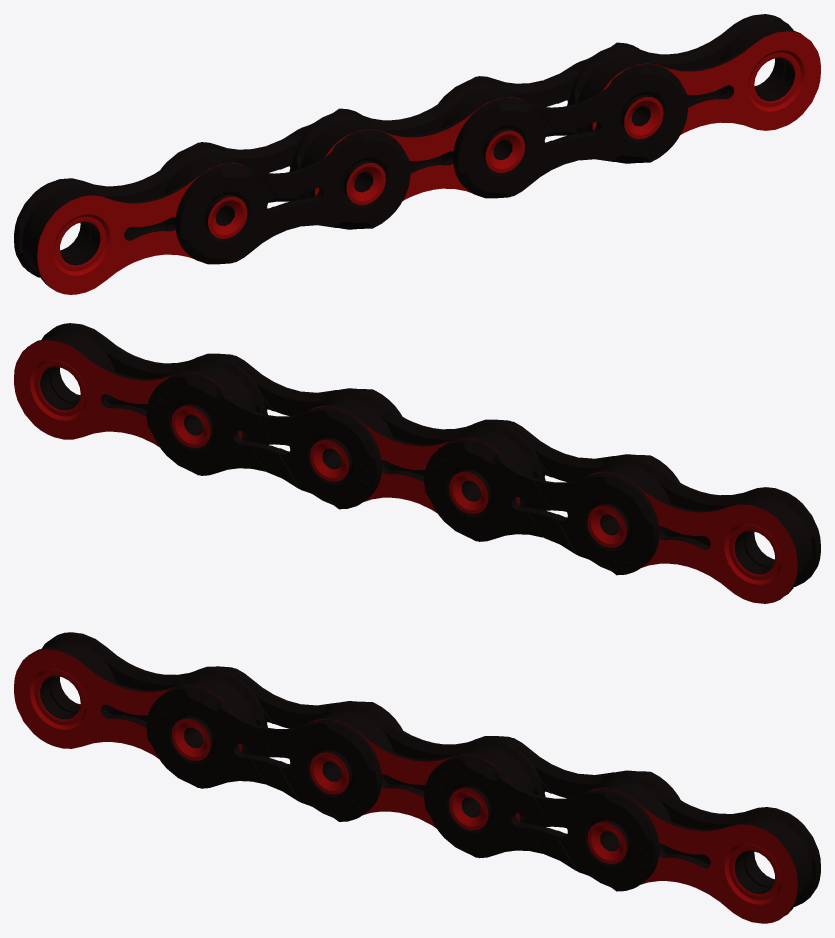
The model's file is DLC11-Red.gltf.
3 renders of one model, top to bottom at view 1: azimuth 30°, elevation 25°; view 2: azimuth 150°, elevation 25°; view 3: azimuth 330°, elevation 25°, orthographic.
Visible parts, largest first — view 1: DLC11_20210127_body3, DLC11_20210127_body1, DLC11_20210127_body15-Red.PBR, DLC11_20210127_body11-Red.PBR, DLC11_20210127_body16-Black.PBR, DLC11_20210127_body12-Black.PBR, DLC11_20210127_body14-Black.PBR, DLC11_20210127_body13-Red.PBR, DLC11_20210127_body4, DLC11_20210127_body2, DLC11_20210127_body15-Black.PBR, DLC11_20210127_body11-Black.PBR (+15 smaller); view 2: DLC11_20210127_body2, DLC11_20210127_body4, DLC11_20210127_body16-Red.PBR, DLC11_20210127_body12-Red.PBR, DLC11_20210127_body15-Black.PBR, DLC11_20210127_body11-Black.PBR, DLC11_20210127_body13-Black.PBR, DLC11_20210127_body14-Red.PBR, DLC11_20210127_body1, DLC11_20210127_body3, DLC11_20210127_body16-Black.PBR, DLC11_20210127_body12-Black.PBR (+14 smaller); view 3: DLC11_20210127_body3, DLC11_20210127_body1, DLC11_20210127_body11-Red.PBR, DLC11_20210127_body15-Red.PBR, DLC11_20210127_body12-Black.PBR, DLC11_20210127_body16-Black.PBR, DLC11_20210127_body14-Black.PBR, DLC11_20210127_body13-Red.PBR, DLC11_20210127_body4, DLC11_20210127_body2, DLC11_20210127_body11-Black.PBR, DLC11_20210127_body15-Black.PBR (+11 smaller).
Boxes of the visible parts, <box> form: DLC11_20210127_body3: <box>175,130,410,264</box>; DLC11_20210127_body1: <box>453,64,688,198</box>; DLC11_20210127_body15-Red.PBR: <box>37,163,245,294</box>; DLC11_20210127_body11-Red.PBR: <box>592,31,820,134</box>; DLC11_20210127_body16-Black.PBR: <box>14,146,238,277</box>; DLC11_20210127_body12-Black.PBR: <box>569,14,793,133</box>; DLC11_20210127_body14-Black.PBR: <box>291,80,515,199</box>; DLC11_20210127_body13-Red.PBR: <box>315,97,523,200</box>; DLC11_20210127_body4: <box>160,108,361,202</box>; DLC11_20210127_body2: <box>438,42,639,136</box>; DLC11_20210127_body15-Black.PBR: <box>32,161,246,290</box>; DLC11_20210127_body11-Black.PBR: <box>588,29,803,131</box>; DLC11_20210127_body2: <box>146,373,381,509</box>; DLC11_20210127_body4: <box>424,439,659,575</box>; DLC11_20210127_body16-Red.PBR: <box>586,472,797,603</box>; DLC11_20210127_body12-Red.PBR: <box>14,340,242,447</box>; DLC11_20210127_body15-Black.PBR: <box>597,455,820,586</box>; DLC11_20210127_body11-Black.PBR: <box>41,323,265,442</box>; DLC11_20210127_body13-Black.PBR: <box>319,389,543,508</box>; DLC11_20210127_body14-Red.PBR: <box>310,406,519,513</box>; DLC11_20210127_body1: <box>195,353,401,445</box>; DLC11_20210127_body3: <box>474,419,679,511</box>; DLC11_20210127_body16-Black.PBR: <box>588,470,802,595</box>; DLC11_20210127_body12-Black.PBR: <box>23,338,246,440</box>; DLC11_20210127_body3: <box>146,685,381,821</box>; DLC11_20210127_body1: <box>424,755,659,891</box>; DLC11_20210127_body11-Red.PBR: <box>587,788,797,923</box>; DLC11_20210127_body15-Red.PBR: <box>14,649,242,758</box>; DLC11_20210127_body12-Black.PBR: <box>597,771,820,906</box>; DLC11_20210127_body16-Black.PBR: <box>41,632,265,755</box>; DLC11_20210127_body14-Black.PBR: <box>319,701,543,824</box>; DLC11_20210127_body13-Red.PBR: <box>309,719,519,828</box>; DLC11_20210127_body4: <box>196,666,402,758</box>; DLC11_20210127_body2: <box>473,736,680,827</box>; DLC11_20210127_body11-Black.PBR: <box>589,786,802,915</box>; DLC11_20210127_body15-Black.PBR: <box>23,647,246,753</box>.
Bounding box in the file's own units: 8.03 × 1 × 0.6489.
2 materials, 2 textured.
